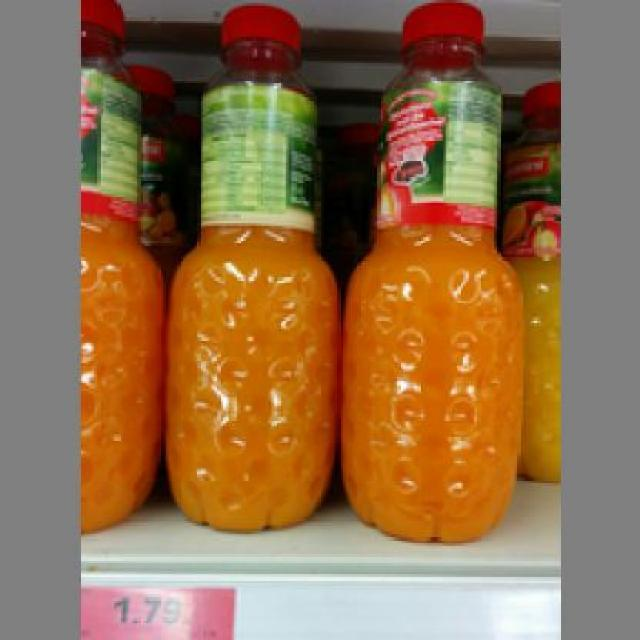Juice: (334, 0, 526, 543), (161, 0, 338, 532)
